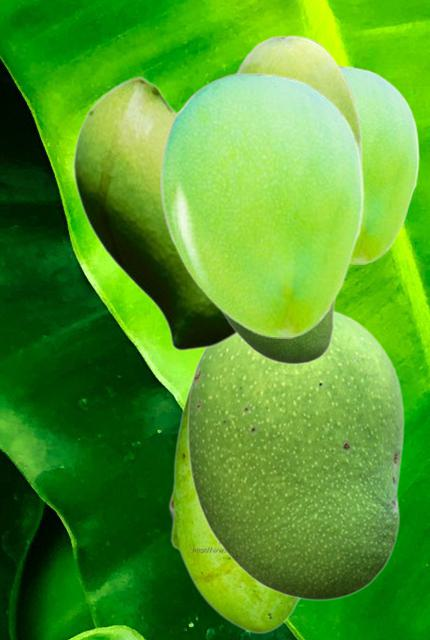green_mango: (186, 310, 403, 600), (159, 72, 363, 337), (218, 34, 362, 364), (72, 75, 237, 350), (168, 350, 300, 633), (340, 65, 418, 263)
